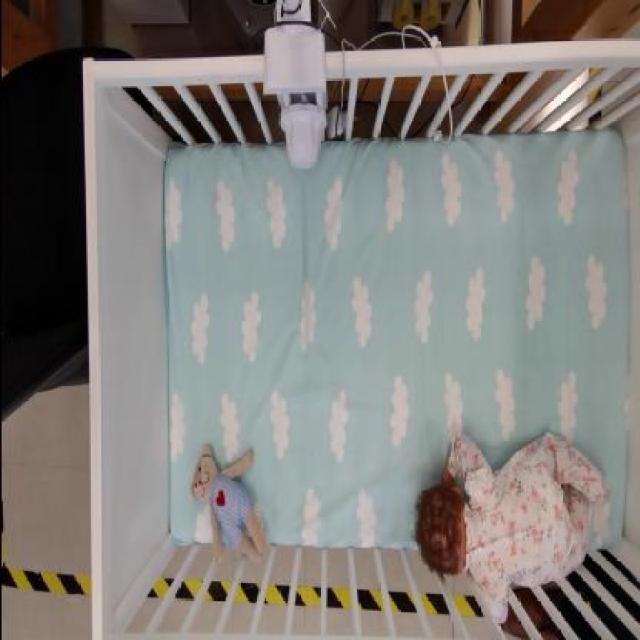baby: (414, 428, 610, 624)
